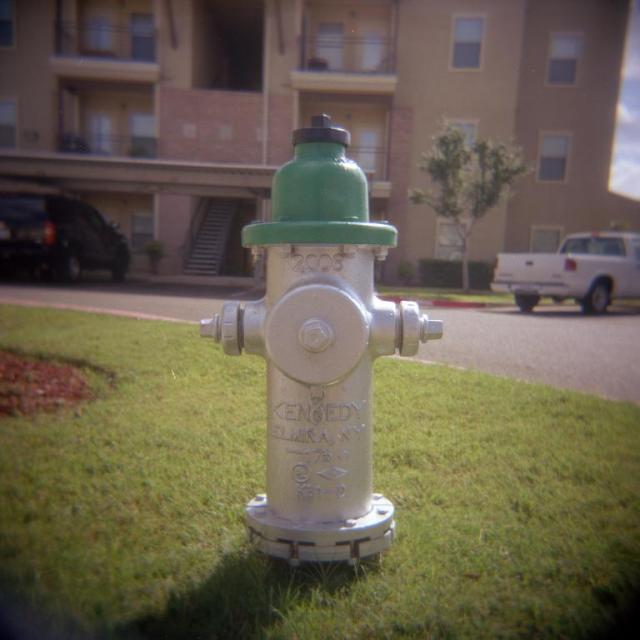fire_hydrant: (200, 114, 443, 560)
